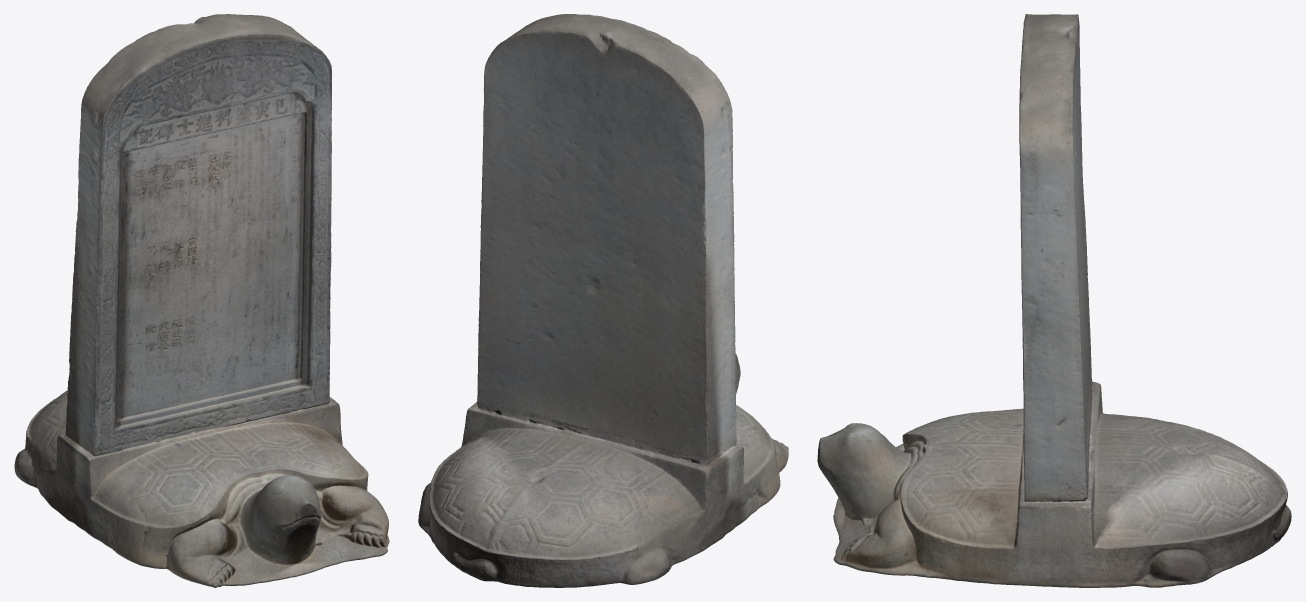
File: bia-1779.glb
3 views of the same model, side by side, from view 1: azimuth 30°, elevation 25°; view 2: azimuth 150°, elevation 25°; view 3: azimuth 270°, elevation 25° (orthographic). The views are drawn at different scales.
Parts seen in each view (by area): view 1: 52-1779; view 2: 52-1779; view 3: 52-1779.
Boxes of the visible parts, x1,y1,x2,y2 form: 52-1779: (14, 14, 389, 587); 52-1779: (418, 14, 788, 587); 52-1779: (817, 14, 1291, 587).
Size of the model in its own units: 0.5617 by 1 by 0.8746.
Materials: 1 (1 with a texture image).
